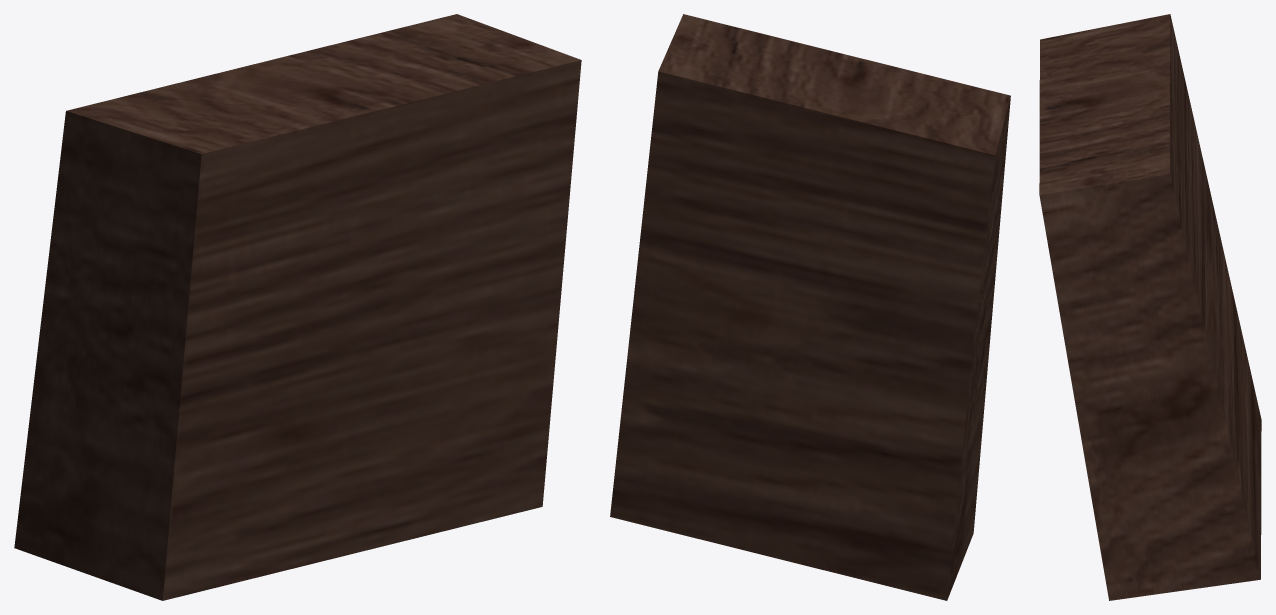
File: NNJ0510015.fbx
3 renders of one model, left to right at view 1: azimuth 30°, elevation 25°; view 2: azimuth 150°, elevation 25°; view 3: azimuth 270°, elevation 25°, orthographic. The views are drawn at different scales.
Parts seen in each view (by area): view 1: smNNJ0510015; view 2: smNNJ0510015; view 3: smNNJ0510015.
Part boxes in pixels (<box>): smNNJ0510015: <box>14,14,581,600</box>; smNNJ0510015: <box>610,14,1010,600</box>; smNNJ0510015: <box>1039,14,1261,600</box>.
Bounding box in the file's own units: 29.44 × 30.68 × 15.15.
Materials: 1 (1 with a texture image).
